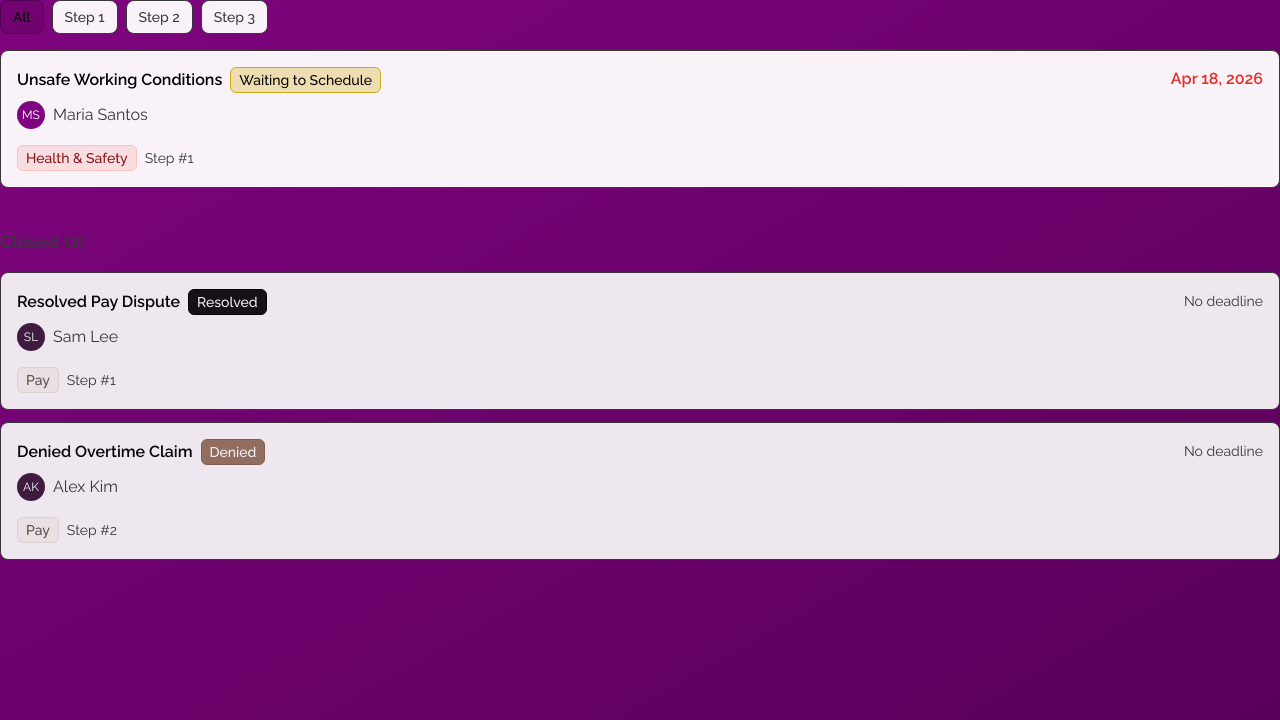
Test: StepFilterView › with showClosed enabled › only shows closed grievances for the selected step, not other steps
The width and height of the screenshot is (1280, 720).
Step 1. Click the button "Step 1" → click(85, 17), box 52,0 -> 118,34
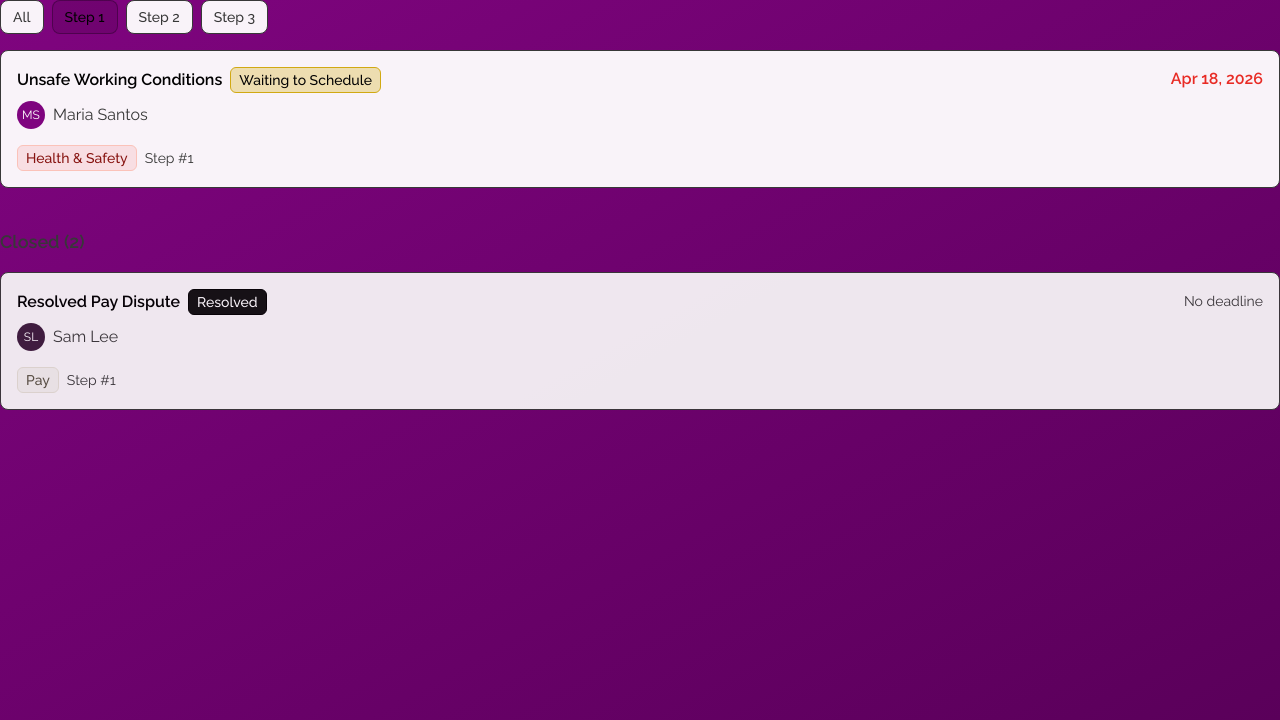
Expected: the heading "Resolved Pay Dispute" is shown, 17,290 -> 180,314
Expected: the link "Denied Overtime Claim" is gone
